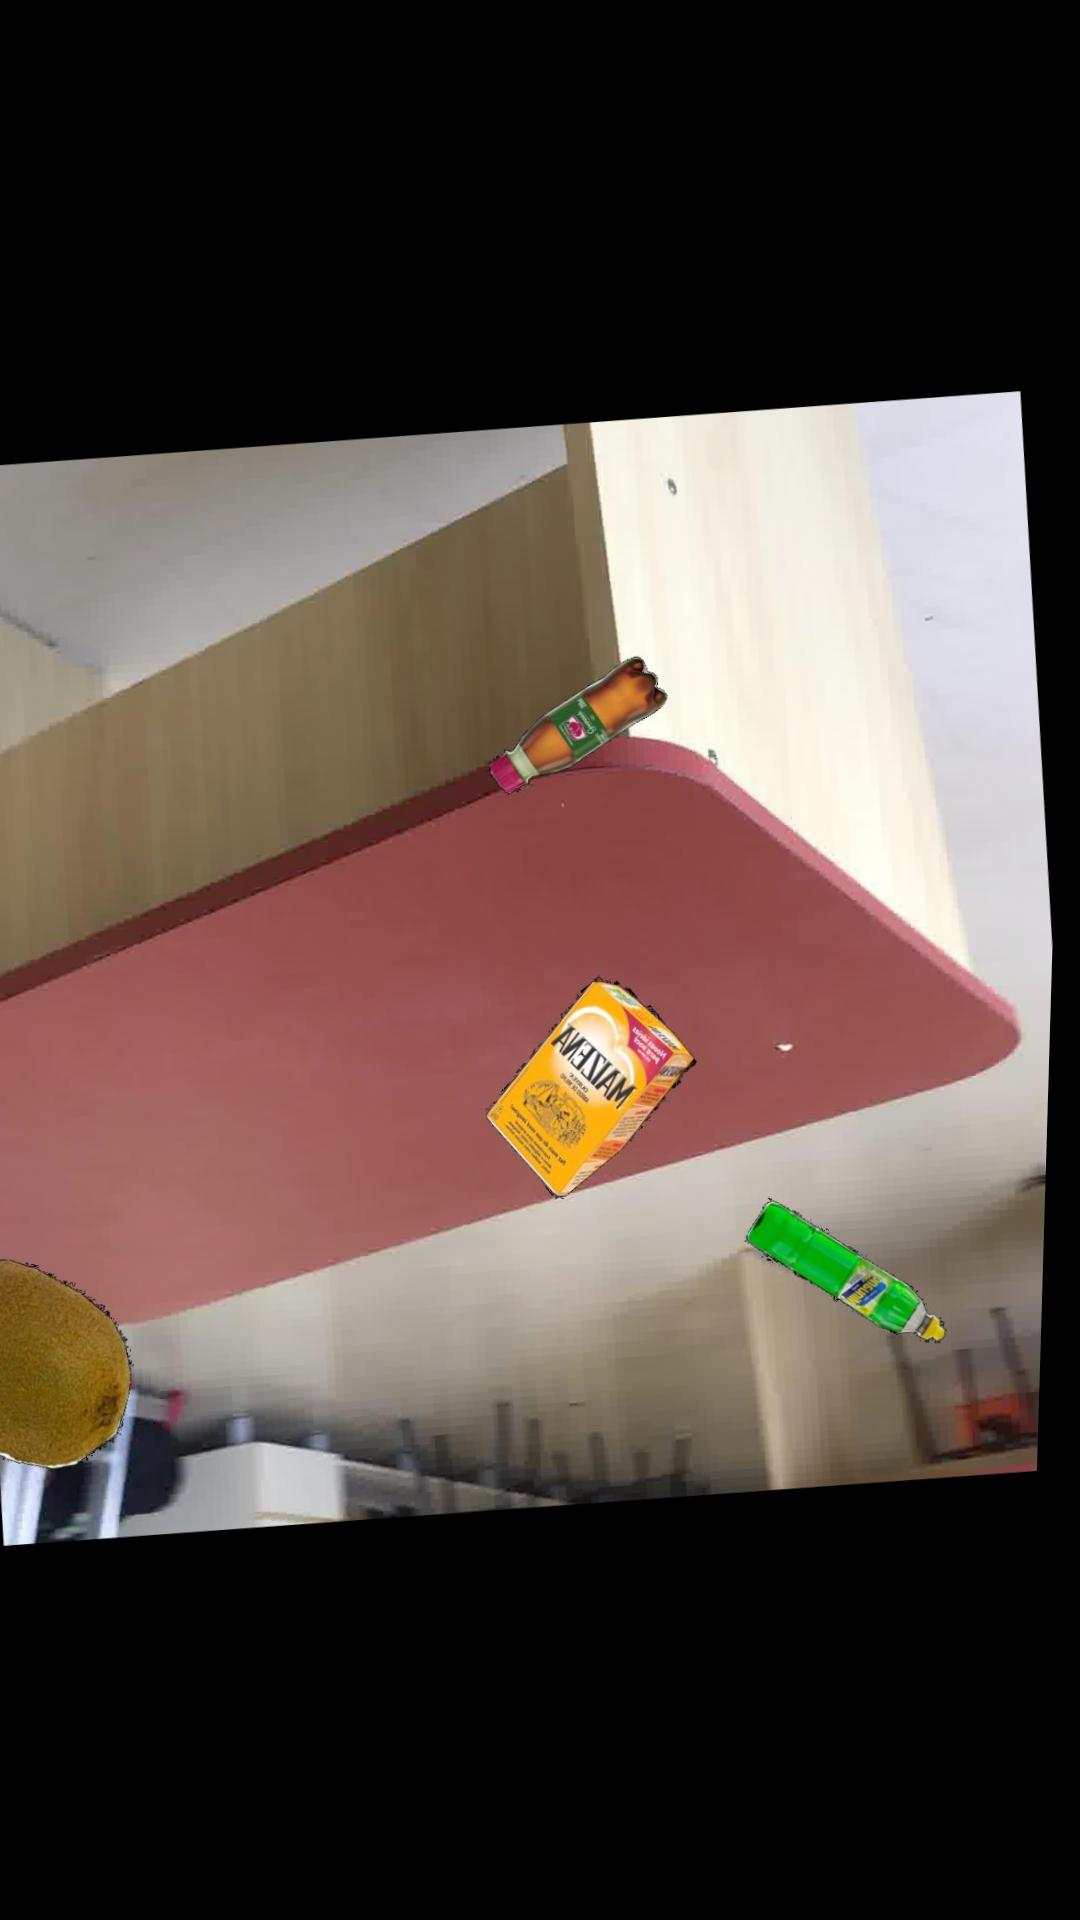cleaner: (756, 1192, 955, 1337)
guarana: (495, 651, 673, 791)
kiwi: (0, 1255, 141, 1466)
